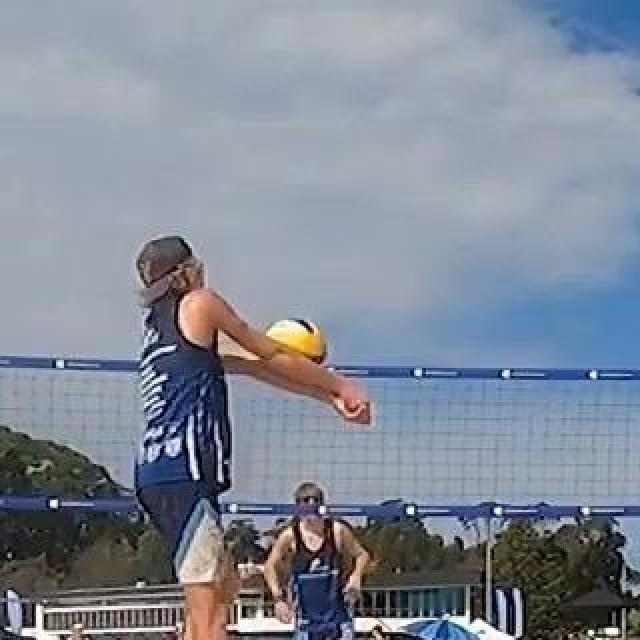volleyball: (263, 315, 327, 381)
